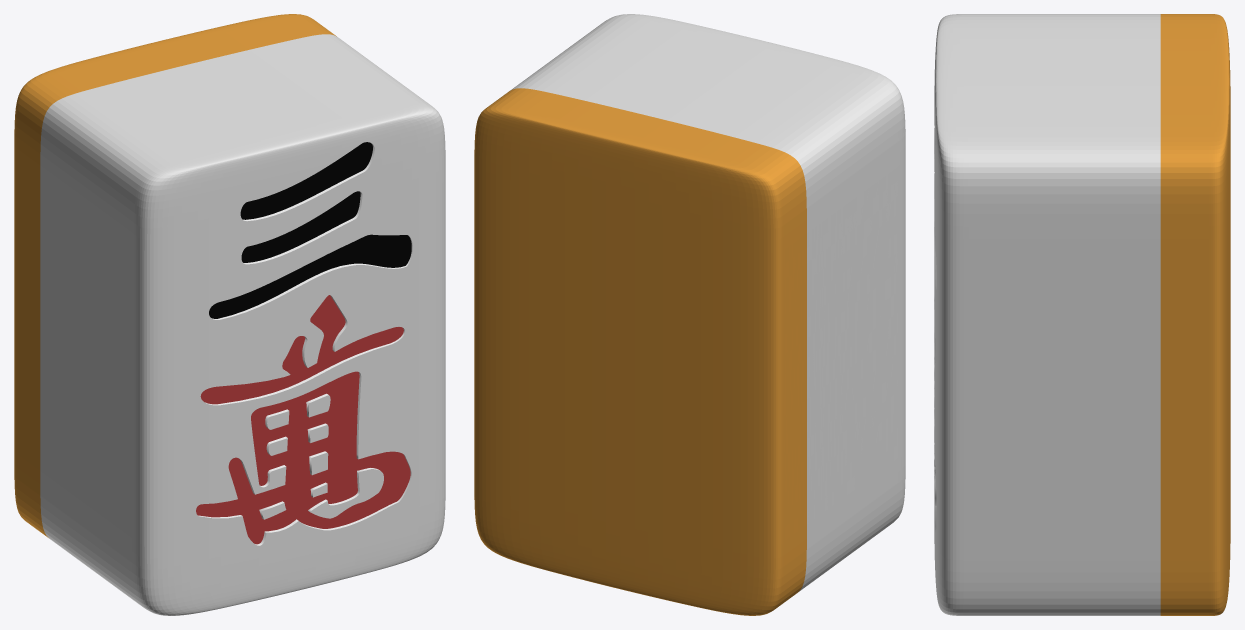
The model's file is Man3.fbx.
3 views of the same model, side by side, from view 1: azimuth 30°, elevation 25°; view 2: azimuth 150°, elevation 25°; view 3: azimuth 270°, elevation 25° (orthographic). The views are drawn at different scales.
Visible parts, largest first — view 1: Man3; view 2: Man3; view 3: Man3.
Boxes of the visible parts, x1,y1,x2,y2 form: Man3: (14, 14, 445, 615); Man3: (474, 14, 905, 615); Man3: (934, 14, 1230, 615).
Size of the model in its own units: 2 by 2.8 by 1.59.
